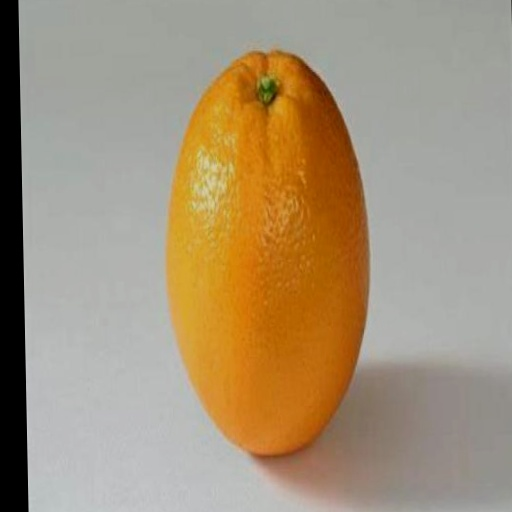fruit: (167, 52, 369, 454)
